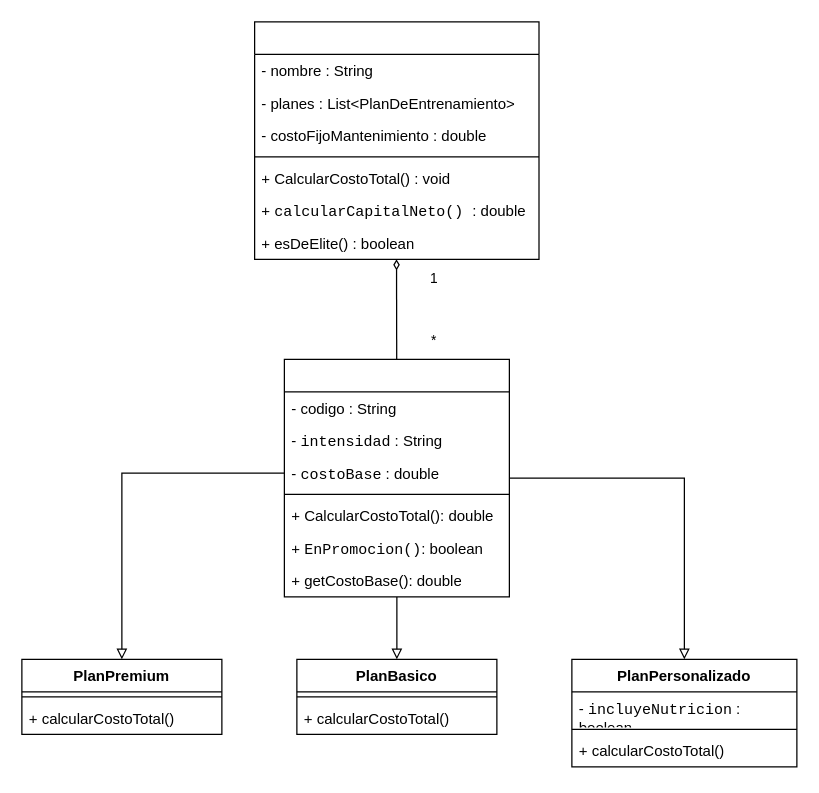
This 819x793 diagram has some shape labels left out. Here are the shapes that lost their labels. From the top down, the box of each, then its label:
(253, 21, 539, 259): Gimnasio
(283, 358, 509, 597): <<PlanDeEntrenamiento>>
